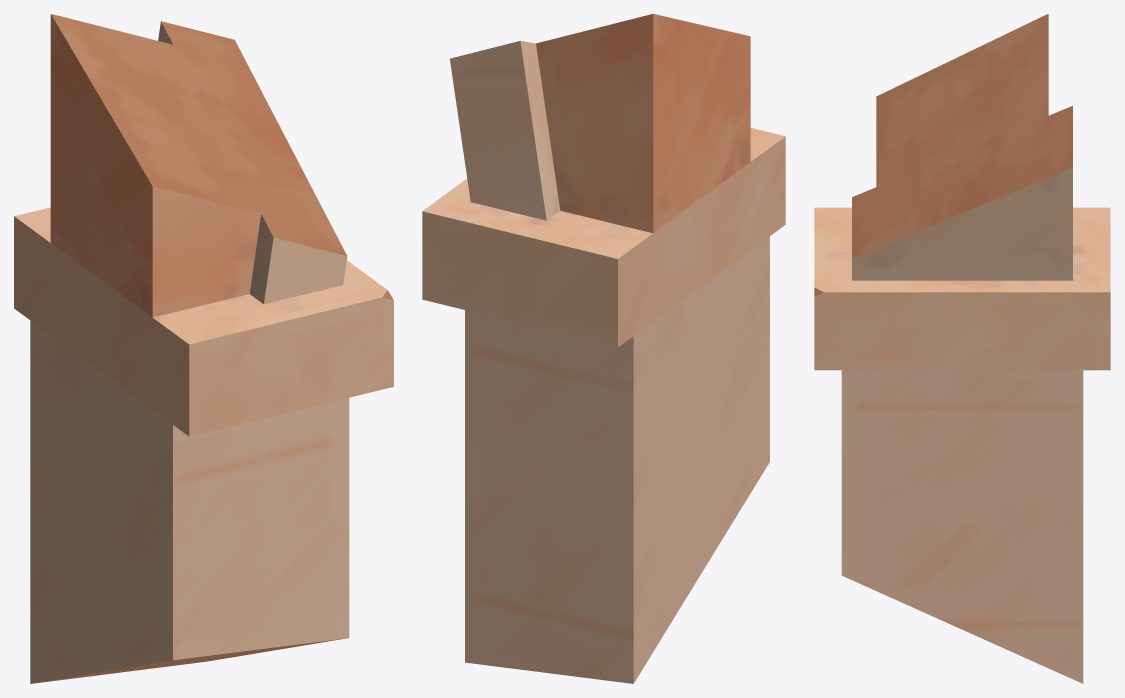
The model's file is wall2_arcade_s02.fbx.
3 views of the same model, side by side, from view 1: azimuth 30°, elevation 25°; view 2: azimuth 150°, elevation 25°; view 3: azimuth 270°, elevation 25° (orthographic). The views are drawn at different scales.
Visible parts, largest first — view 1: wall2_arcade_s02; view 2: wall2_arcade_s02; view 3: wall2_arcade_s02.
Part boxes in pixels (<box>): wall2_arcade_s02: <box>14,14,393,683</box>; wall2_arcade_s02: <box>422,14,785,683</box>; wall2_arcade_s02: <box>814,14,1110,683</box>.
Size of the model in its own units: 1.16 by 3.82 by 1.72.
